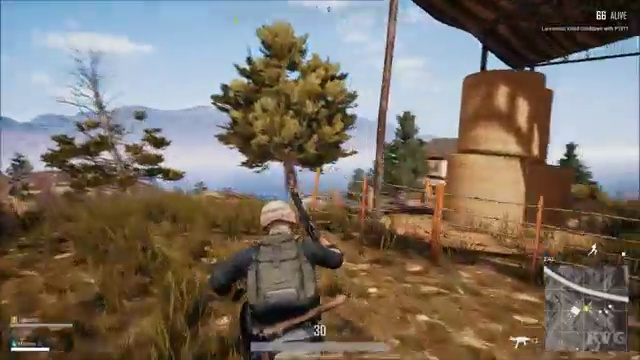Player: (214, 183, 360, 318)
